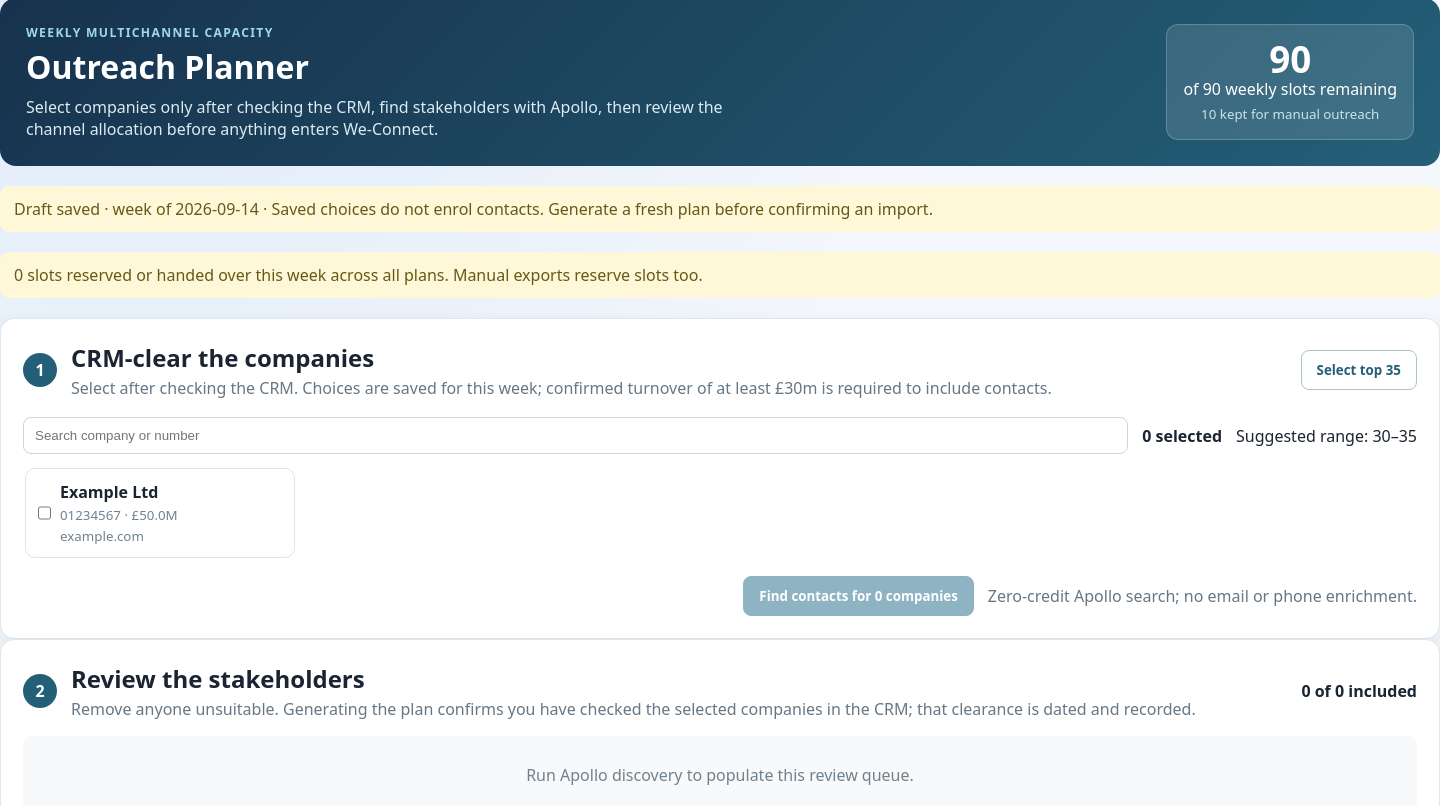
Test: WeeklyOutreach › builds an approval-only weekly plan from CRM-cleared companies
This screenshot has width=1440, height=806.
Step 1. Click the text "Example Ltd" → [109, 492], box [60,481,158,503]
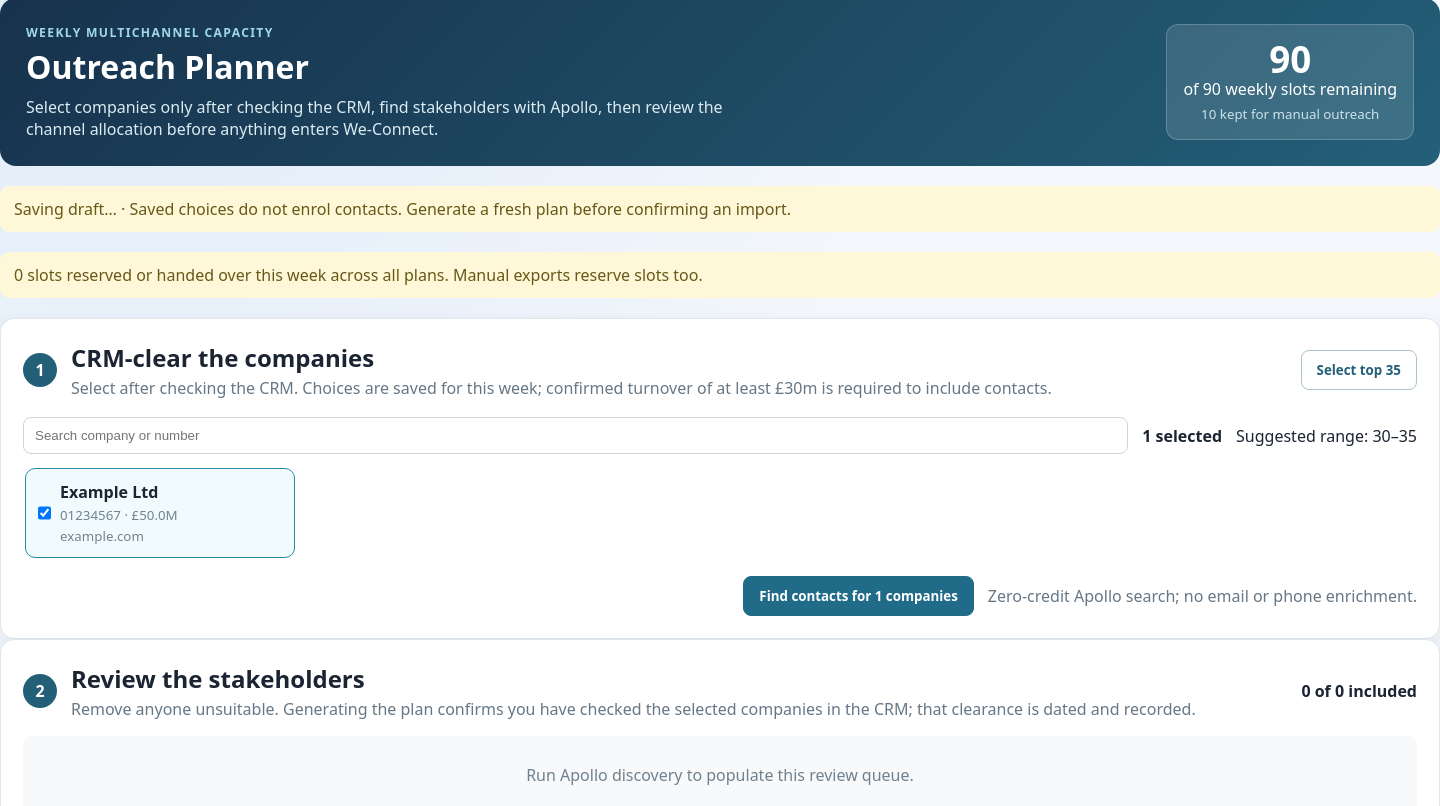
Step 2. Click the button "Find contacts for 1 companies" → [859, 596], box [743,576,974,616]
(page scrolled)
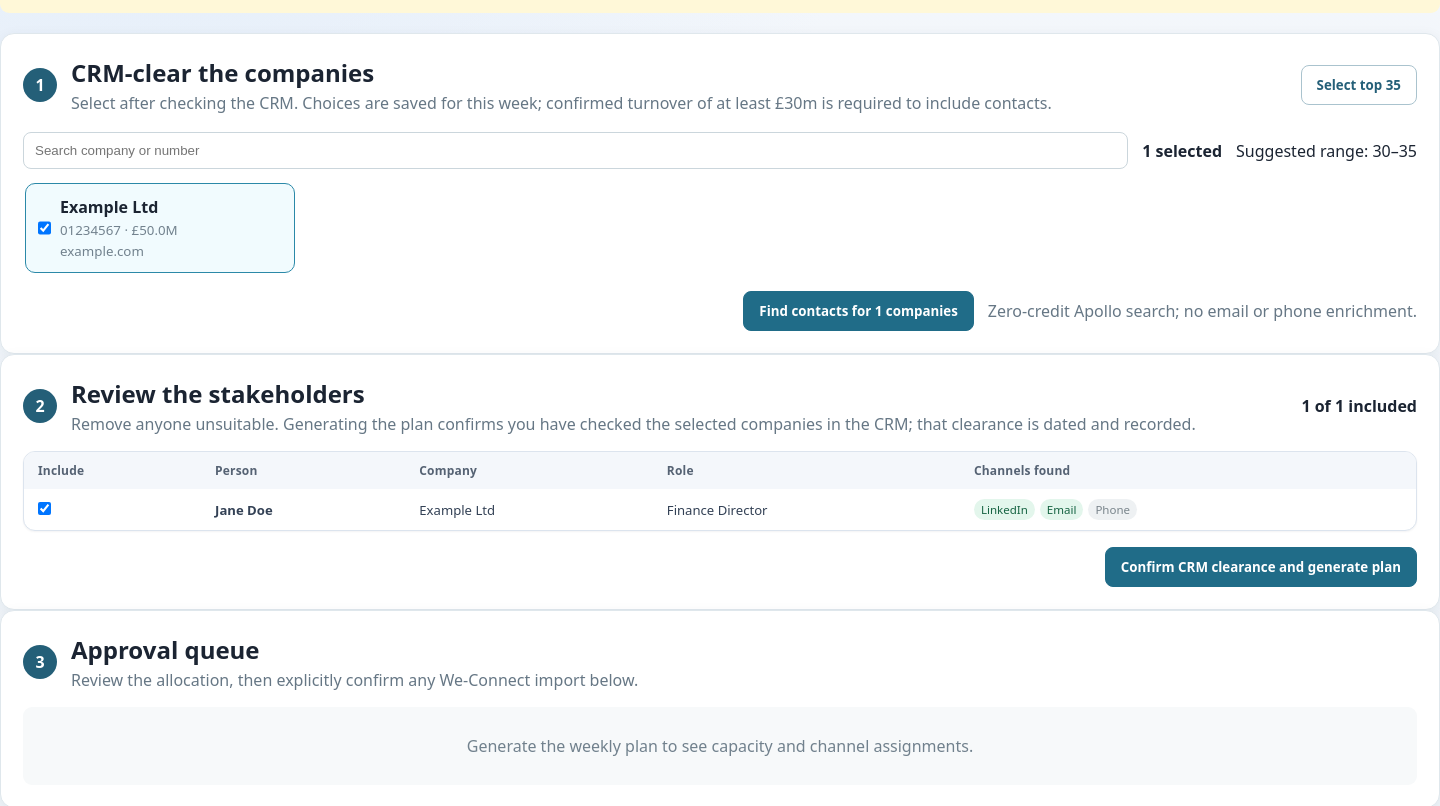
Now the text "Jane Doe" is shown, box [215,500,273,518]
Now the button "Confirm CRM clearance and generate plan" is enabled
Step 3. Click the button "Confirm CRM clearance and generate plan" → [1261, 567], box [1105,547,1417,587]
(page scrolled)
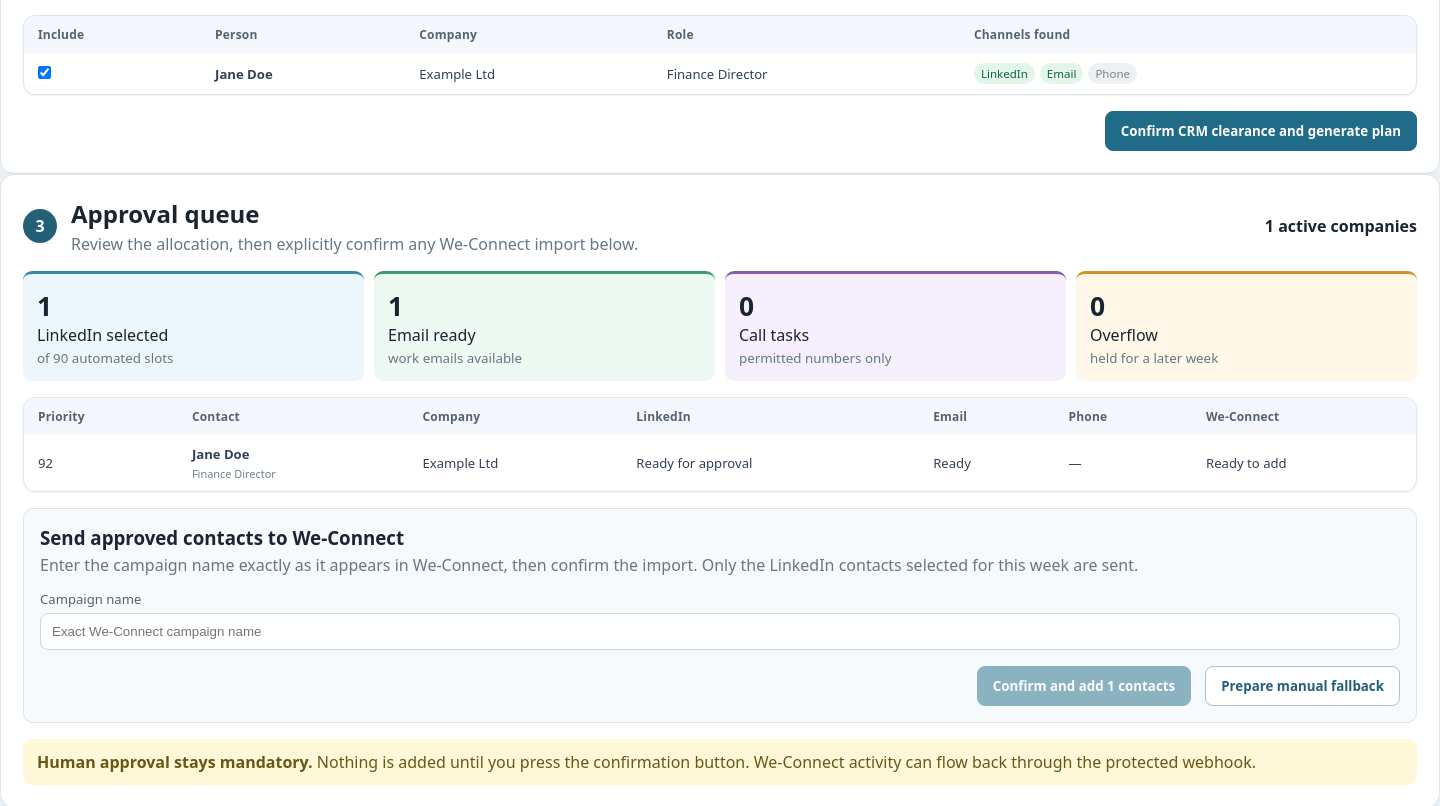
Now the text "Ready for approval" is shown, box [622,435,919,491]
Now the text "Human approval stays mandatory." is shown, box [37,751,313,773]
Step 4. Type "Weekly Finance Leaders" into the field labelled "Campaign name" → [720, 632], box [40,613,1400,650]
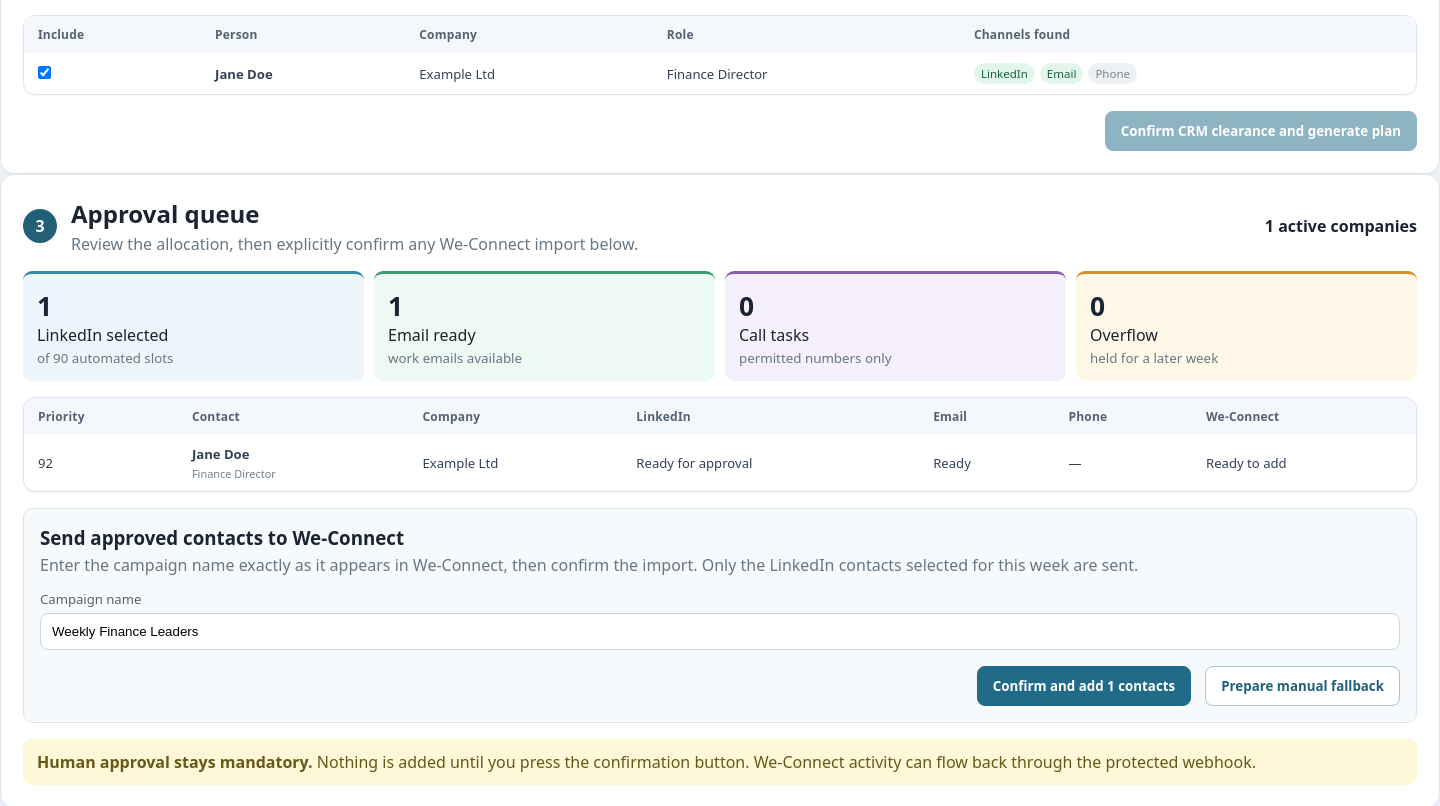
Step 5. Click the button "Confirm and add 1 contacts" → [1084, 686], box [977,666,1191,706]
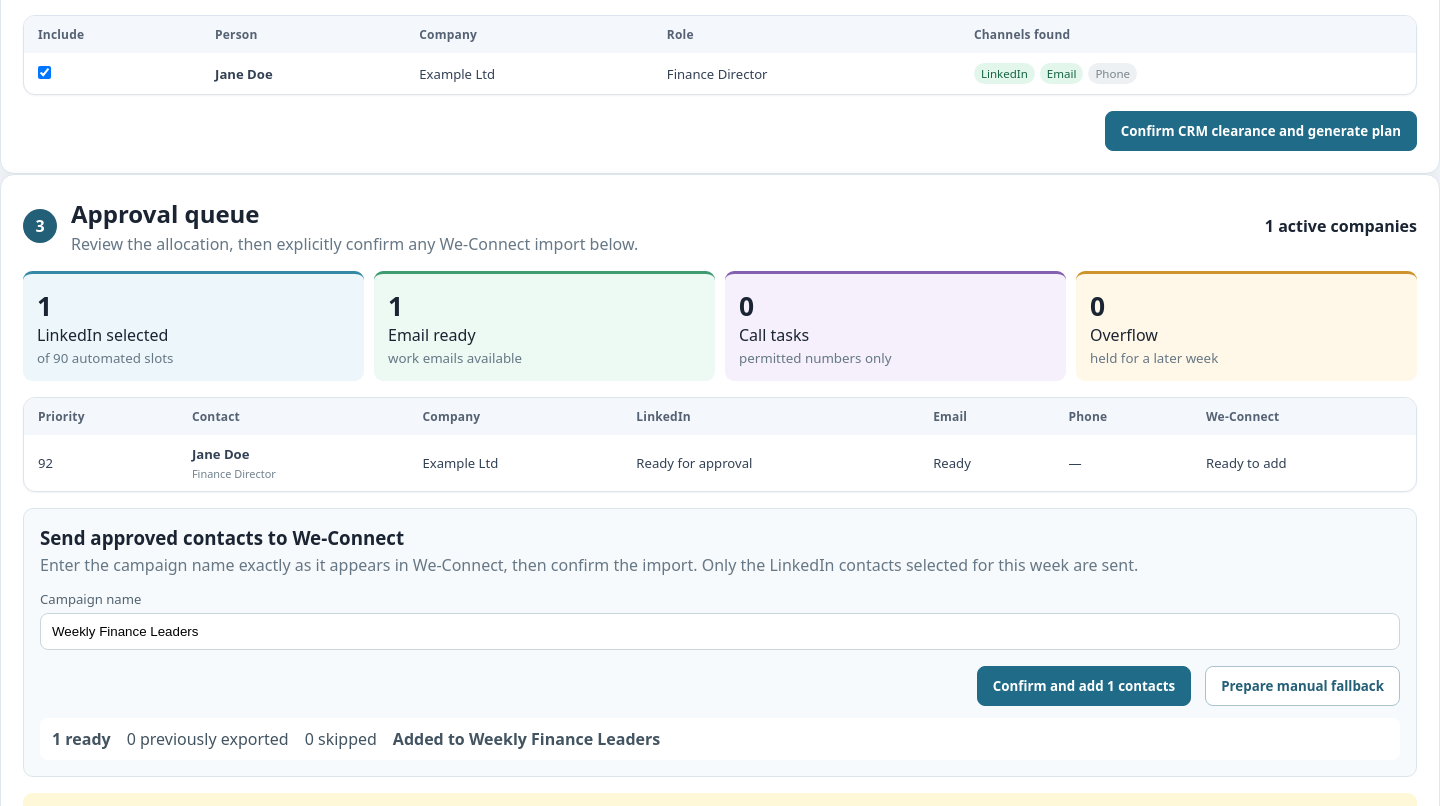
Now the text "Added to Weekly Finance Leaders" is shown, box [393,728,660,750]
